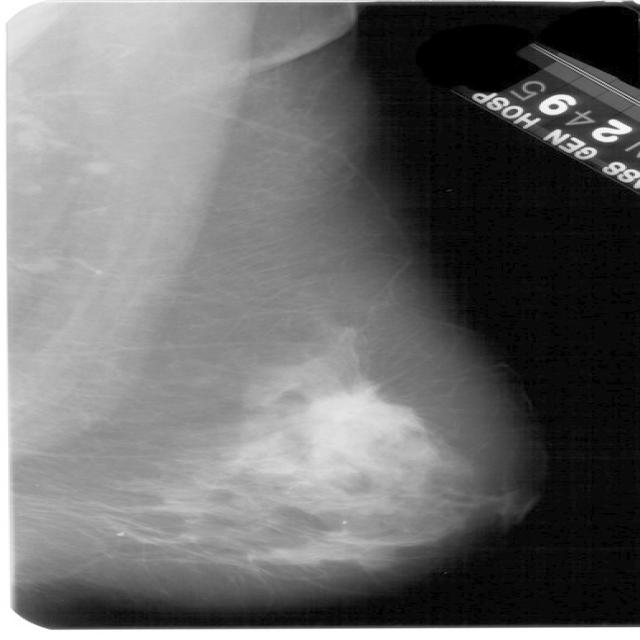tumour: (302, 387, 409, 443)
